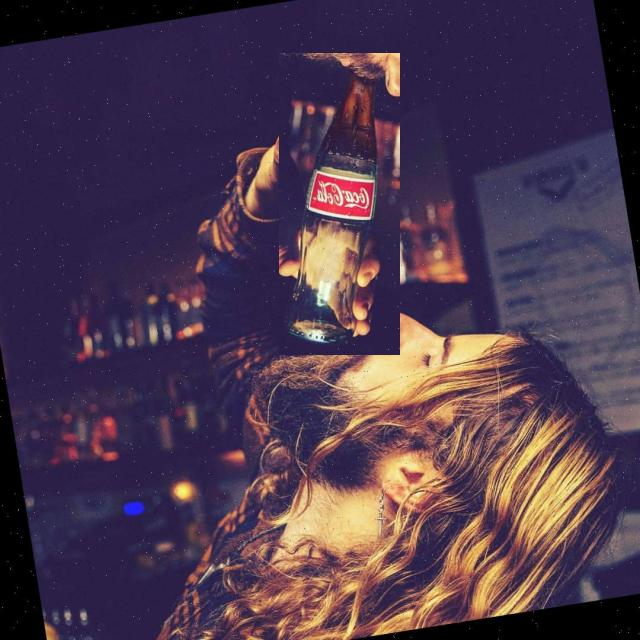coca-cola: (279, 54, 400, 356)
